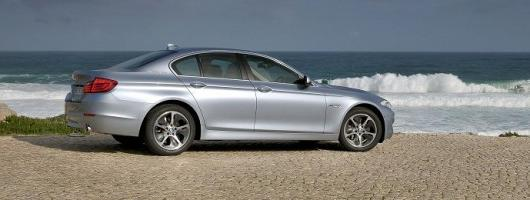Car: (50, 37, 401, 167)
